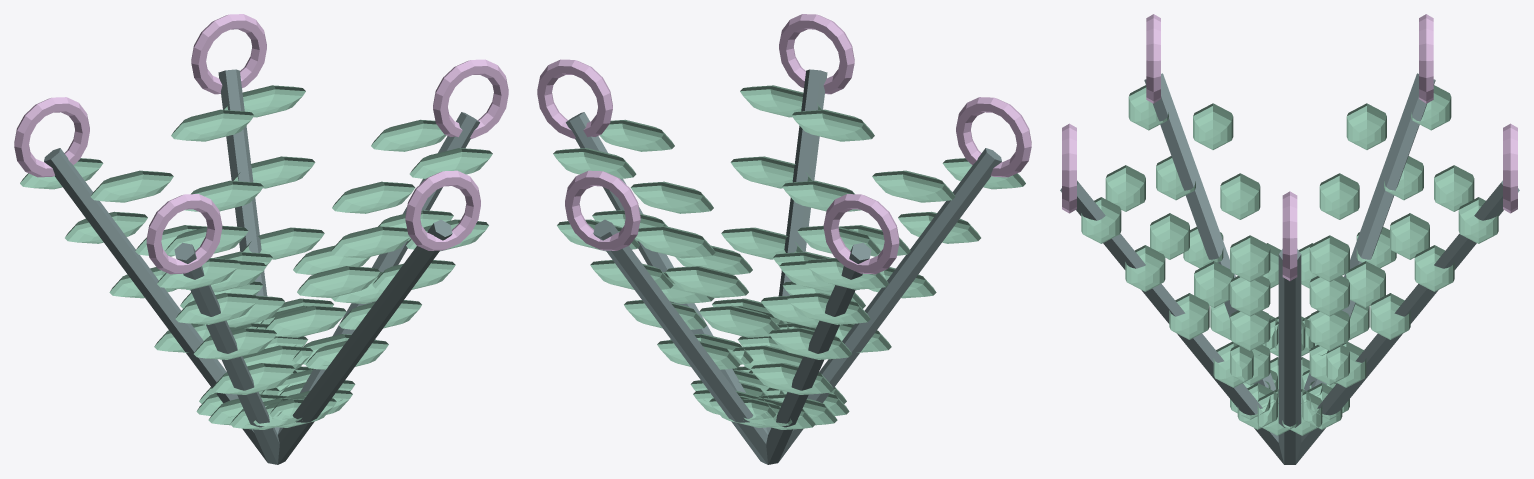
The model's file is runestone-conservatory-spiral-garden-fern__109.glb.
3 renders of one model, left to right at view 1: azimuth 30°, elevation 25°; view 2: azimuth 150°, elevation 25°; view 3: azimuth 270°, elevation 25°, orthographic. The views are drawn at different scales.
Visible parts, largest first — view 1: runestone-conservatory-spiral-fern; view 2: runestone-conservatory-spiral-fern; view 3: runestone-conservatory-spiral-fern.
Part boxes in pixels (x1,y1,x2,y2): runestone-conservatory-spiral-fern: (14,14,508,464); runestone-conservatory-spiral-fern: (537,14,1031,464); runestone-conservatory-spiral-fern: (1060,14,1519,464).
Bounding box in the file's own units: 0.7692 × 0.6064 × 0.6939.
